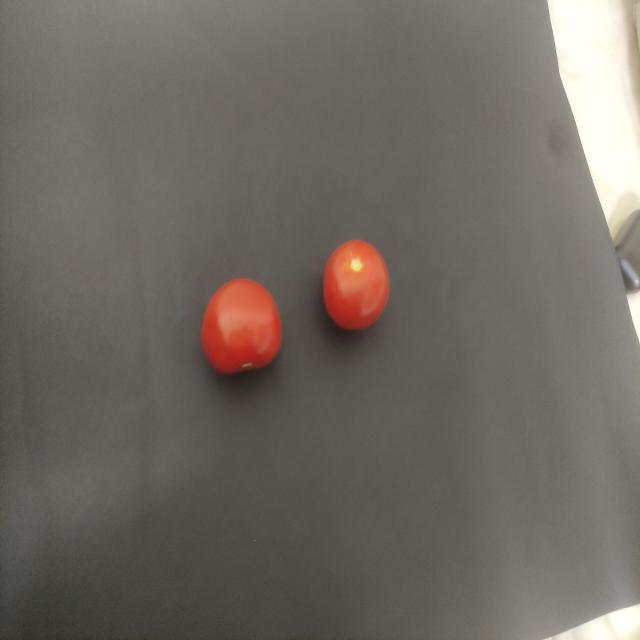kirmizi: (308, 220, 394, 346), (190, 273, 285, 380)
